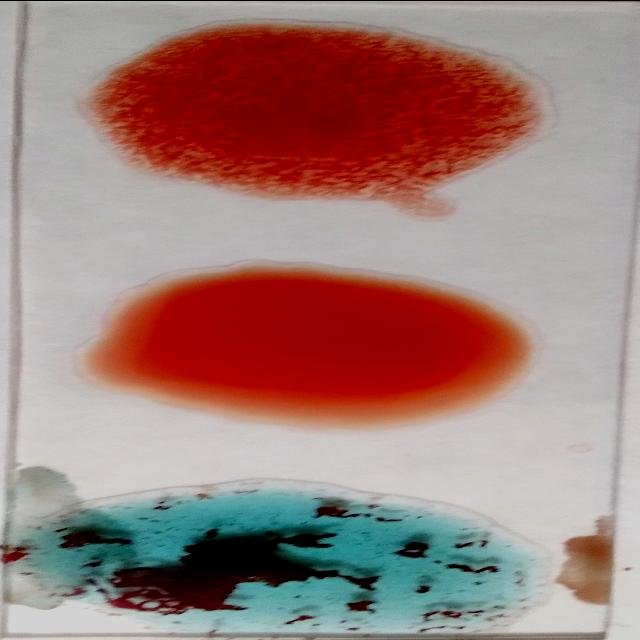A: (21, 482, 554, 632)
D: (104, 19, 546, 188)
